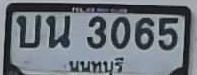0: (110, 16, 129, 48)
3: (86, 15, 105, 48)
5: (158, 17, 177, 49)
6: (134, 17, 153, 49)
A25: (46, 14, 69, 48)
A26: (16, 14, 40, 47)
NBI: (67, 54, 125, 75)
